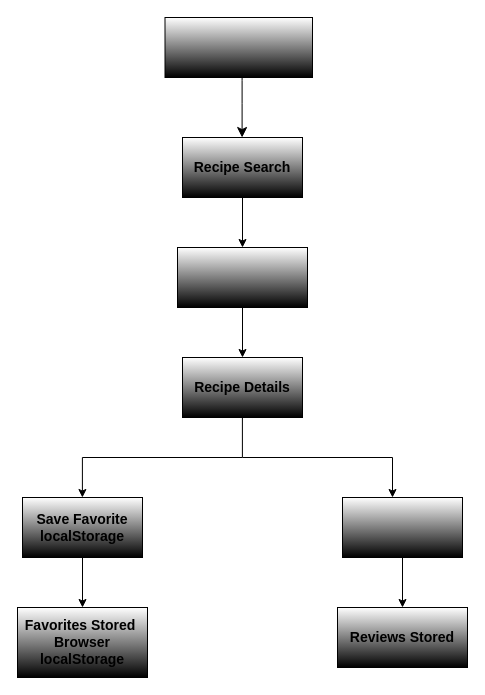
Image size: 485x695. Some labels were removed from this diagram. Each missing label, with the centre of its shape:
"Search Results List" belongs at (242,277).
"User" belongs at (238,47).
"Write Review Star Rating" belongs at (402,527).
